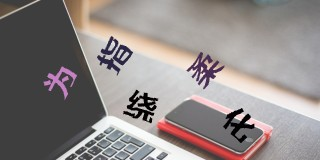为: (41, 65, 79, 100)
化: (223, 107, 256, 143)
指: (94, 35, 134, 76)
柔: (187, 51, 224, 91)
绕: (121, 88, 160, 125)
